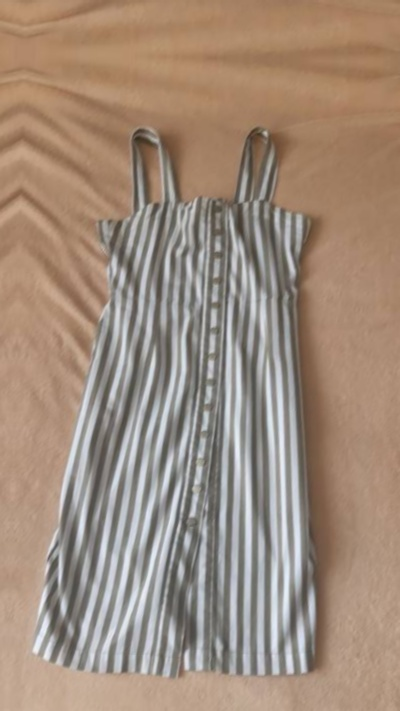Dress: (17, 118, 341, 698), (0, 109, 12, 689)
